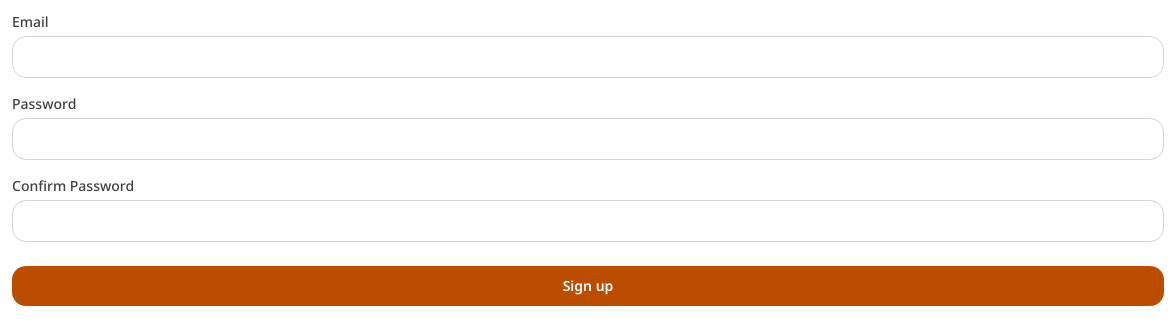
SignUpForm › disables the submit button while sign up is in progress
This screenshot has width=1176, height=323.
Type "new@example.com" into the field labelled "Email" at (588, 57), box [12,36,1164,78]
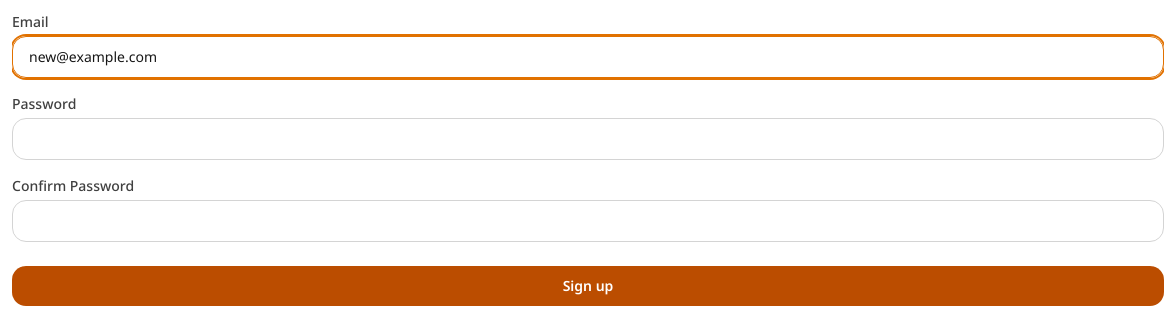
Type "Password1!" into the password field labelled "Password" at (588, 139), box [12,118,1164,160]
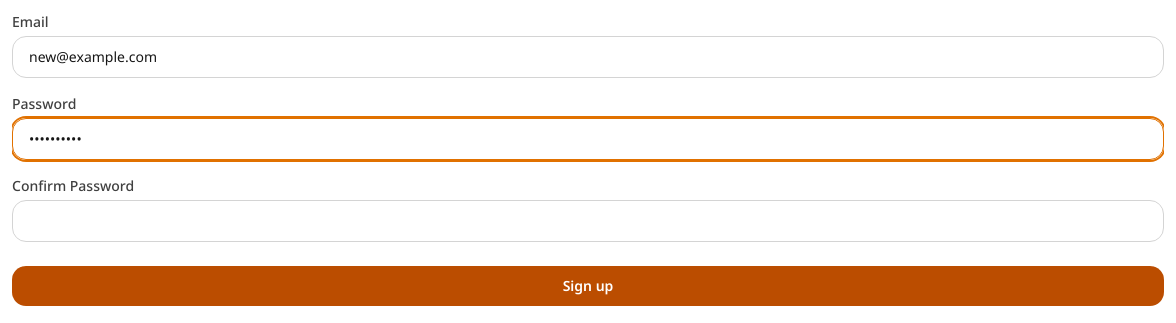
Type "Password1!" into the password field labelled "Confirm Password" at (588, 221), box [12,200,1164,242]
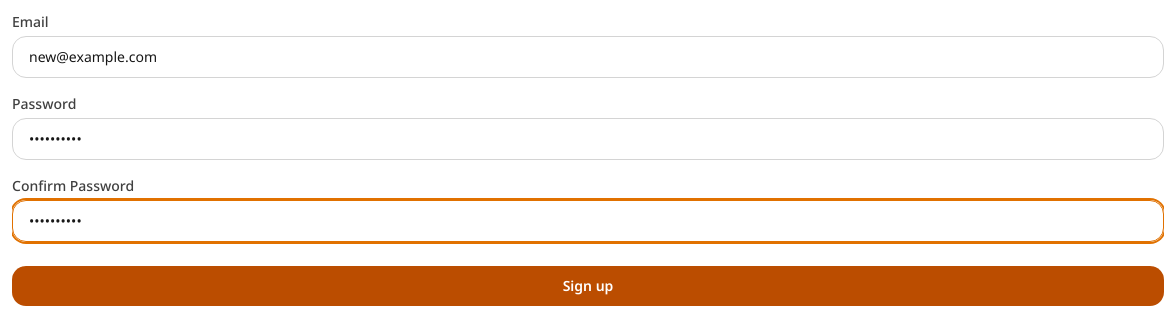
Click the button "Sign up" at (588, 286), box [12,266,1164,306]
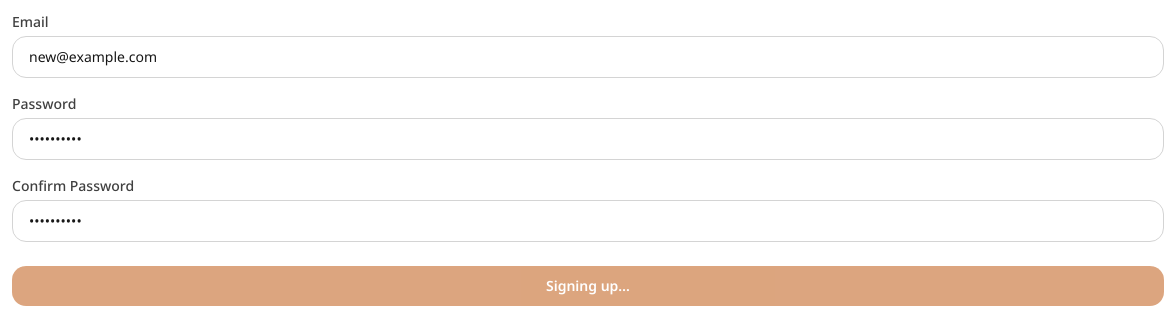
Expected: the button "Signing up…" is disabled, [12,266,1164,306]
